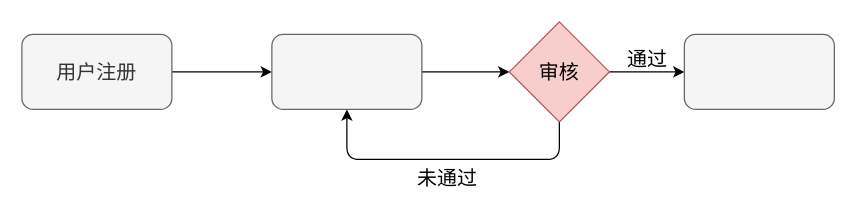
Some shapes in this 856 by 219 pixel diagram are drawn without their labels. Here are the shapes that lost their labels. From the top down, the centre of each, then its label:
the point at 346,71: 企业认证申请
the point at 758,71: 查看审核结果
